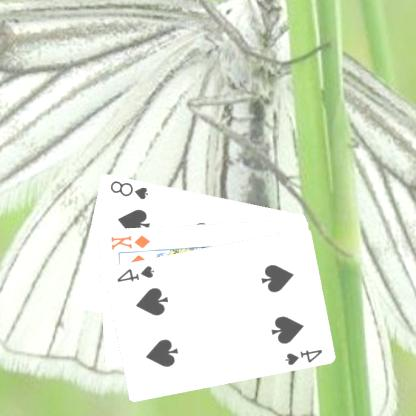4S: (284, 346, 325, 367), (115, 263, 157, 283)
8S: (109, 178, 152, 200)
KD: (109, 232, 154, 251)
